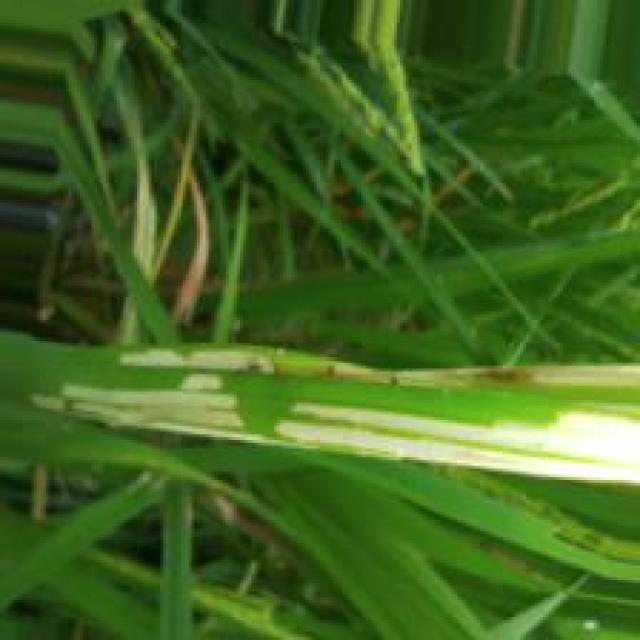Rice_Hispa: (276, 401, 640, 483), (29, 370, 252, 442), (384, 364, 640, 390), (122, 346, 275, 378)
